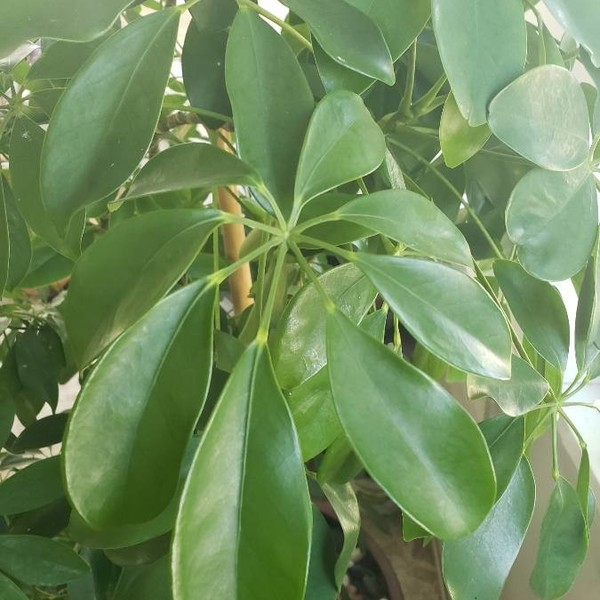obstacle: (46, 39, 553, 572)
